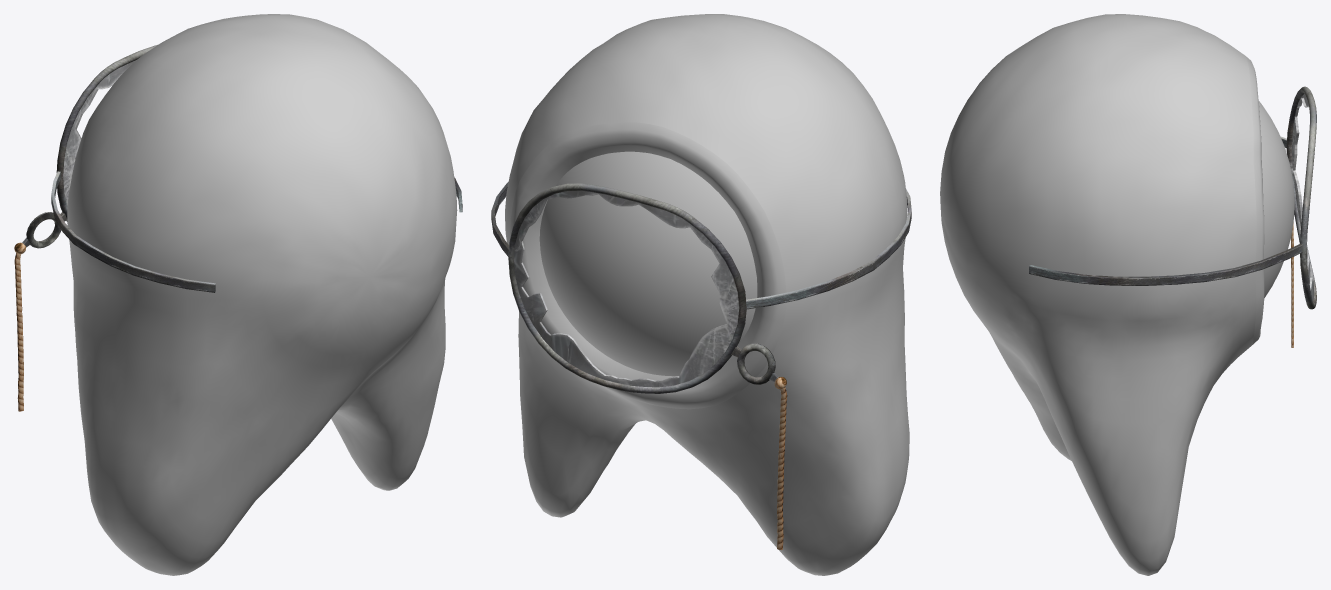
The model's file is ExportEyeMonster.FBX.
3 renders of one model, left to right at view 1: azimuth 30°, elevation 25°; view 2: azimuth 150°, elevation 25°; view 3: azimuth 270°, elevation 25°, orthographic. The views are drawn at different scales.
Parts seen in each view (by area): view 1: lib_monster_eye, lib_monster_glasses, lib_monster_rope; view 2: lib_monster_eye, lib_eye_pupil, lib_monster_glasses, lib_monster_rope; view 3: lib_monster_eye, lib_monster_glasses, lib_eye_pupil.
Part boxes in pixels (x1,y1,x2,y2): lib_monster_eye: (67, 14, 457, 575); lib_monster_glasses: (22, 45, 462, 292); lib_monster_rope: (14, 242, 25, 411); lib_monster_eye: (505, 14, 909, 575); lib_eye_pupil: (539, 151, 757, 376); lib_monster_glasses: (491, 182, 911, 393); lib_monster_rope: (774, 377, 787, 550); lib_monster_eye: (940, 14, 1264, 575); lib_monster_glasses: (1029, 86, 1316, 309); lib_eye_pupil: (1258, 101, 1294, 297).
Bounding box in the file's own units: 107 × 104 × 147.
